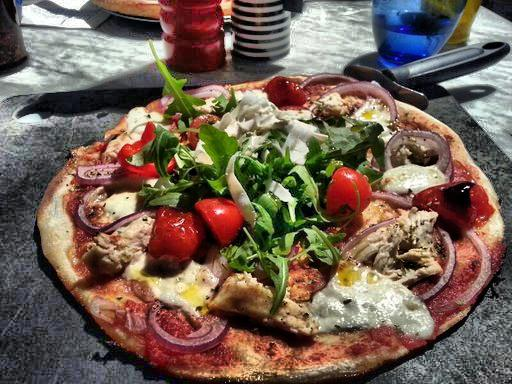pizza: (38, 56, 491, 372)
